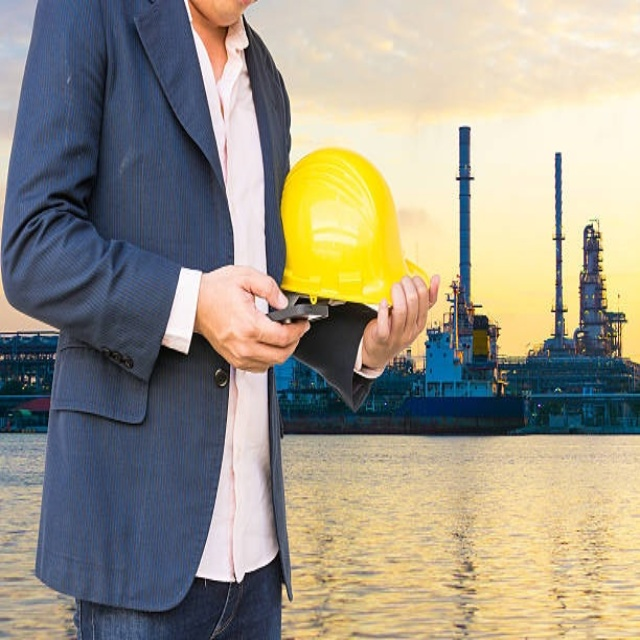Sin_guantes: (199, 264, 312, 373), (359, 268, 440, 372)
